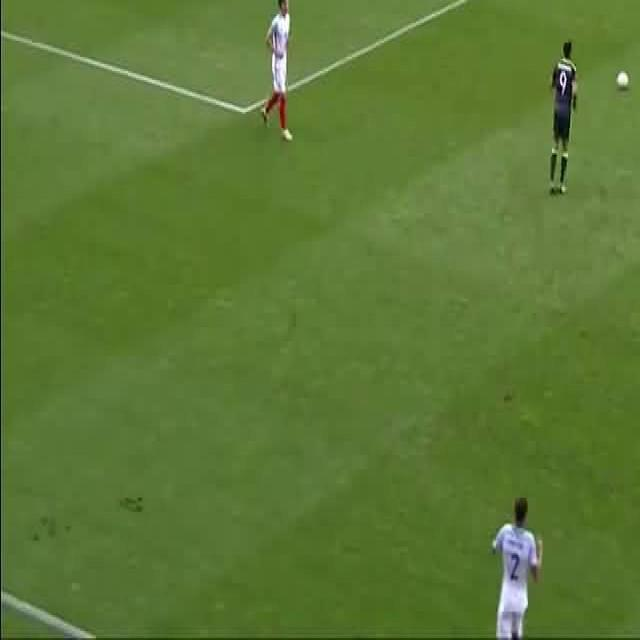ball: (616, 72, 630, 92)
player-white: (491, 497, 542, 640), (259, 0, 294, 142), (547, 39, 577, 196)
